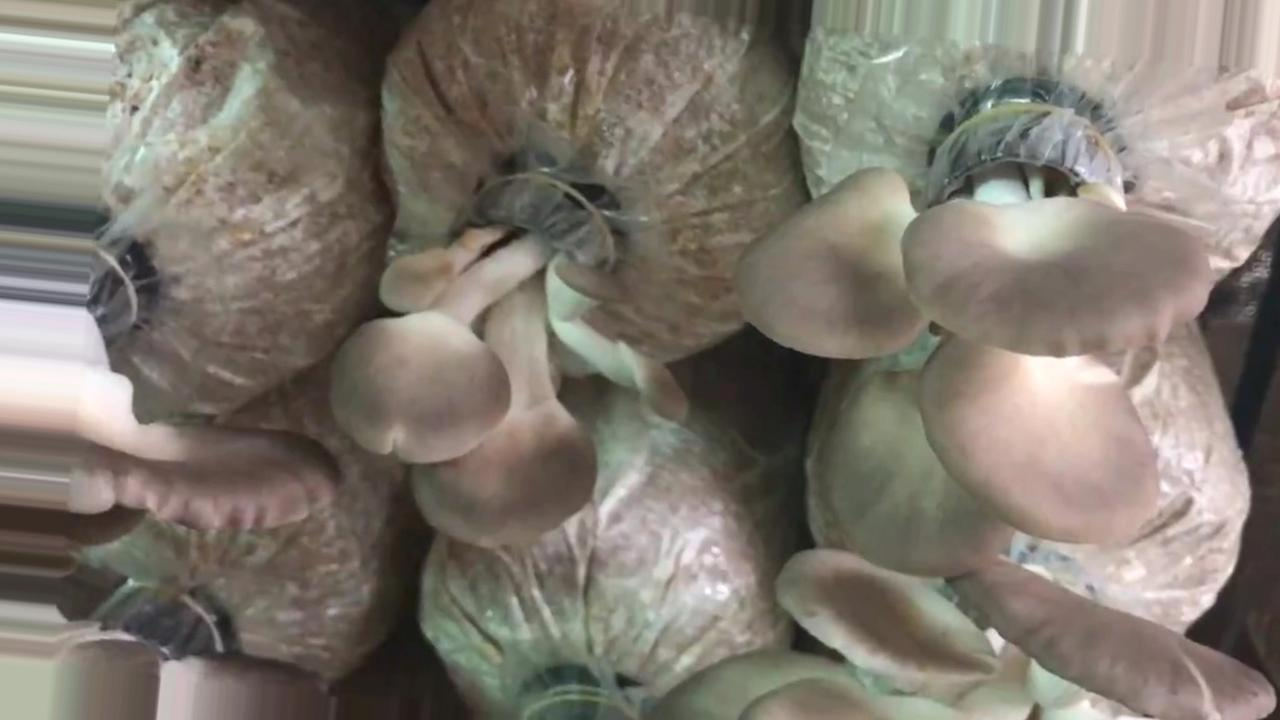nam: (746, 100, 1203, 571), (330, 174, 680, 548), (1, 231, 346, 528), (671, 559, 1274, 720), (1, 591, 325, 717)
